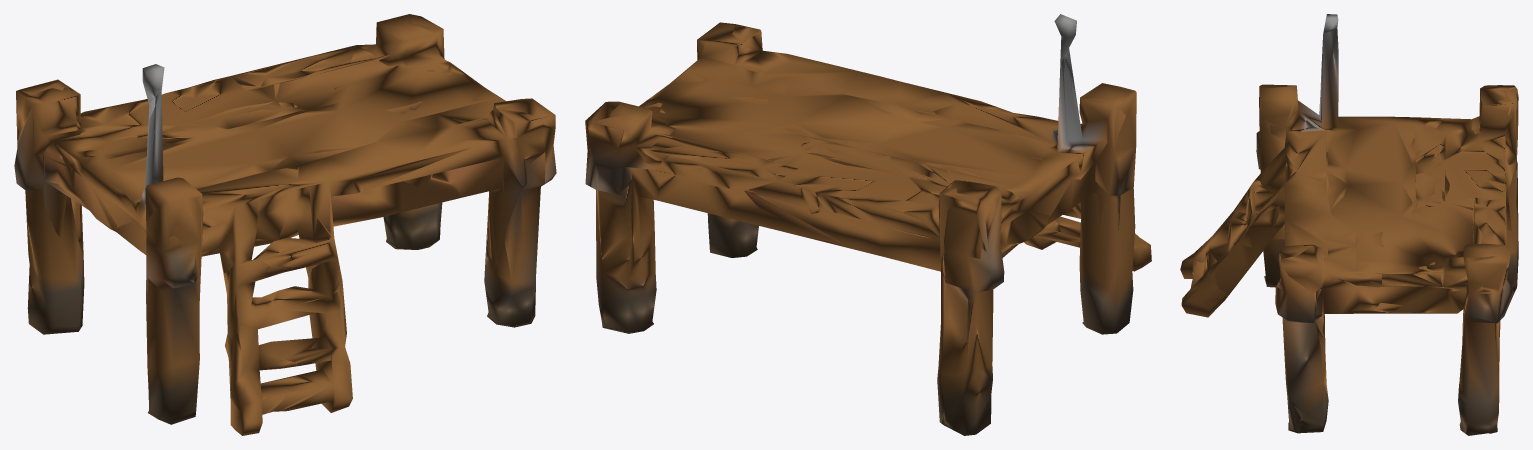
The model's file is gen3d-wooden-dock-lod0.glb.
3 views of the same model, side by side, from view 1: azimuth 30°, elevation 25°; view 2: azimuth 150°, elevation 25°; view 3: azimuth 270°, elevation 25° (orthographic). The views are drawn at different scales.
Visible parts, largest first — view 1: part_0; view 2: part_0; view 3: part_0.
Part boxes in pixels (bbox=[...]): part_0: bbox=[14, 14, 556, 435]; part_0: bbox=[585, 14, 1151, 435]; part_0: bbox=[1180, 14, 1518, 435].
Bounding box in the file's own units: 1.3 × 0.9982 × 1.11.
